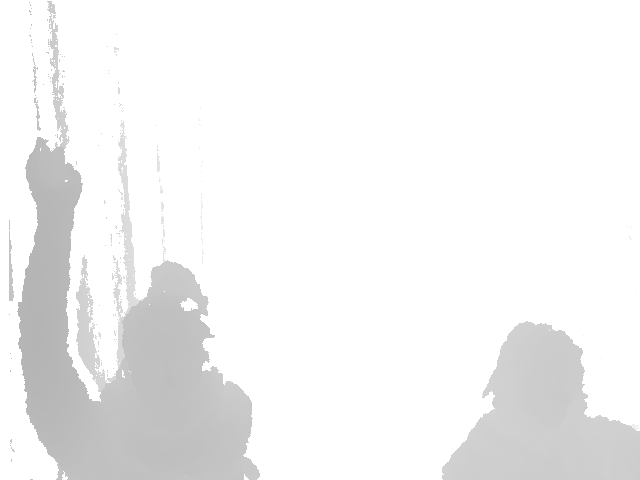hand: (24, 134, 84, 228)
head: (112, 263, 212, 378), (484, 324, 594, 423)
person: (17, 133, 261, 480), (444, 305, 640, 478)
